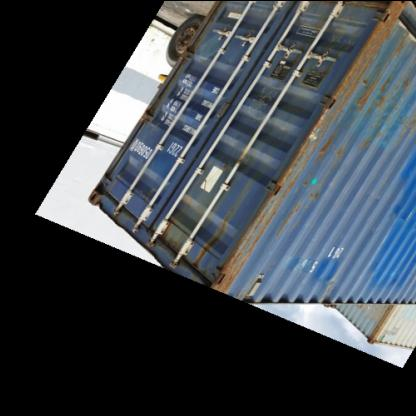Damage: (338, 11, 401, 118), (270, 107, 332, 212), (208, 206, 274, 298), (337, 76, 405, 162)
